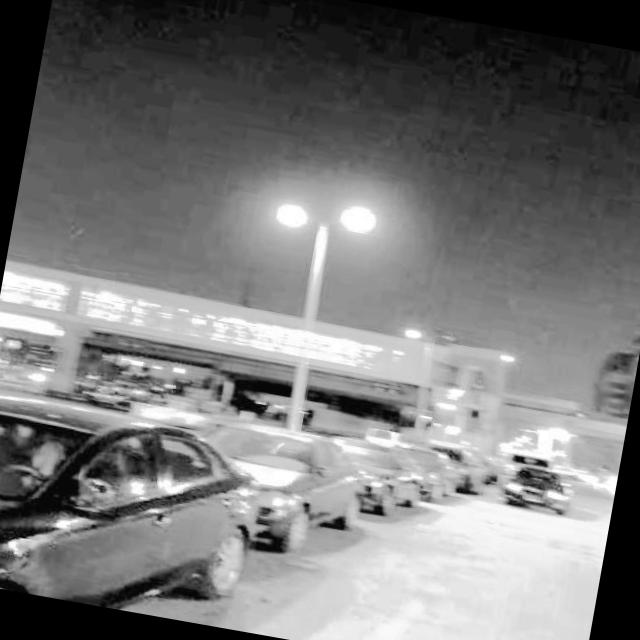Light: (246, 197, 372, 438), (386, 328, 439, 444)
